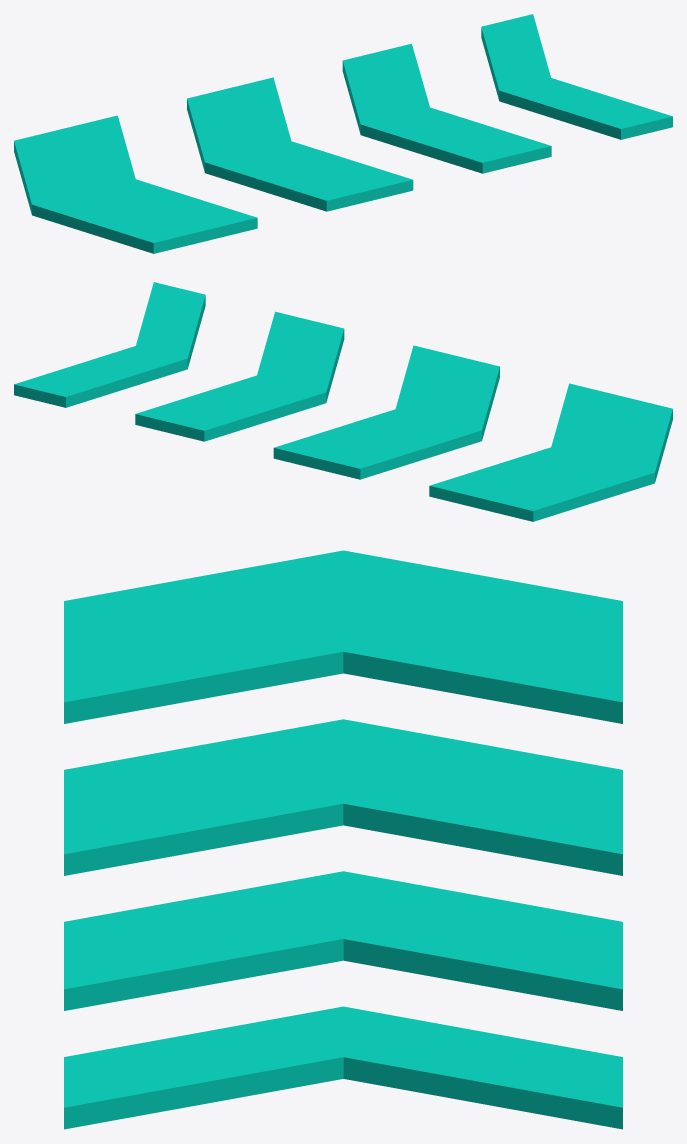
The model's file is indicator_tiny_blue.glb.
3 renders of one model, top to bottom at view 1: azimuth 30°, elevation 25°; view 2: azimuth 150°, elevation 25°; view 3: azimuth 270°, elevation 25°, orthographic. The views are drawn at different scales.
Parts seen in each view (by area): view 1: indicator.002; view 2: indicator.002; view 3: indicator.002.
Part boxes in pixels (<box>): indicator.002: <box>14,14,672,253</box>; indicator.002: <box>14,282,672,521</box>; indicator.002: <box>64,550,622,1129</box>.
Size of the model in its own units: 0.1651 by 0.003 by 0.07.
